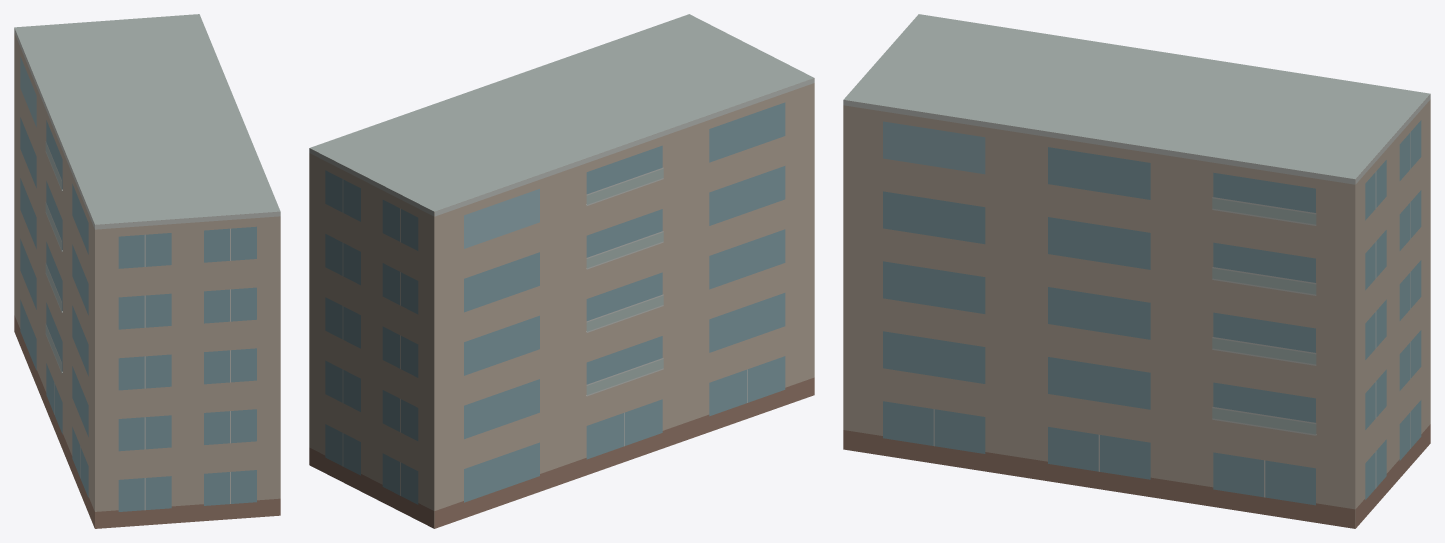
File: survey-upis-32553026.glb
3 renders of one model, left to right at view 1: azimuth 30°, elevation 25°; view 2: azimuth 150°, elevation 25°; view 3: azimuth 270°, elevation 25°, orthographic. The views are drawn at different scales.
Parts seen in each view (by area): view 1: survey-upis-32553026.tmp; view 2: survey-upis-32553026.tmp; view 3: survey-upis-32553026.tmp.
Boxes of the visible parts, x1,y1,x2,y2 form: survey-upis-32553026.tmp: (14,14,280,528); survey-upis-32553026.tmp: (309,14,814,528); survey-upis-32553026.tmp: (843,14,1430,528).
Bounding box in the file's own units: 15.72 × 15.5 × 23.6.
